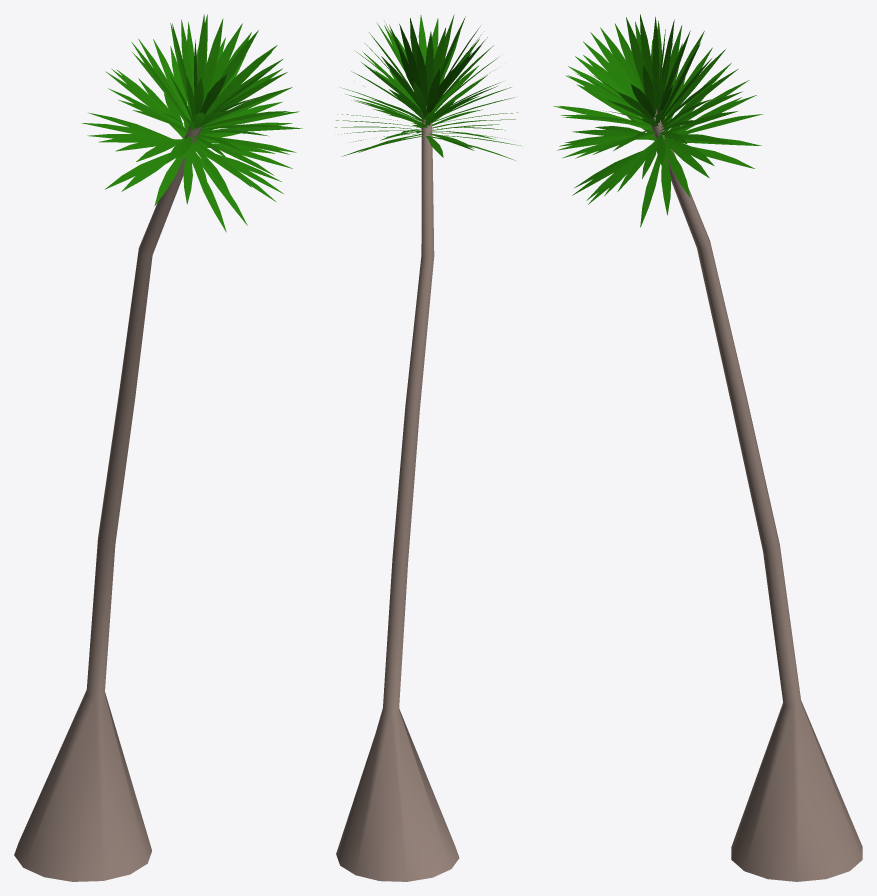
The model's file is YukaTree_03.fbx.
3 renders of one model, left to right at view 1: azimuth 30°, elevation 25°; view 2: azimuth 150°, elevation 25°; view 3: azimuth 270°, elevation 25°, orthographic. The views are drawn at different scales.
Visible parts, largest first — view 1: Foliage001; view 2: Foliage001; view 3: Foliage001.
Boxes of the visible parts, x1,y1,x2,y2 form: Foliage001: (14, 14, 302, 881); Foliage001: (335, 14, 522, 881); Foliage001: (553, 14, 862, 881).
Bounding box in the file's own units: 75.28 × 109 × 331.
